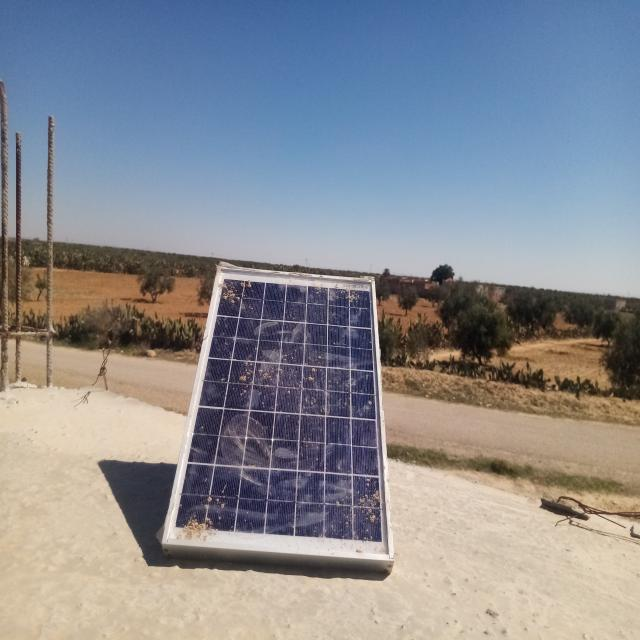faulty: (163, 264, 394, 561)
